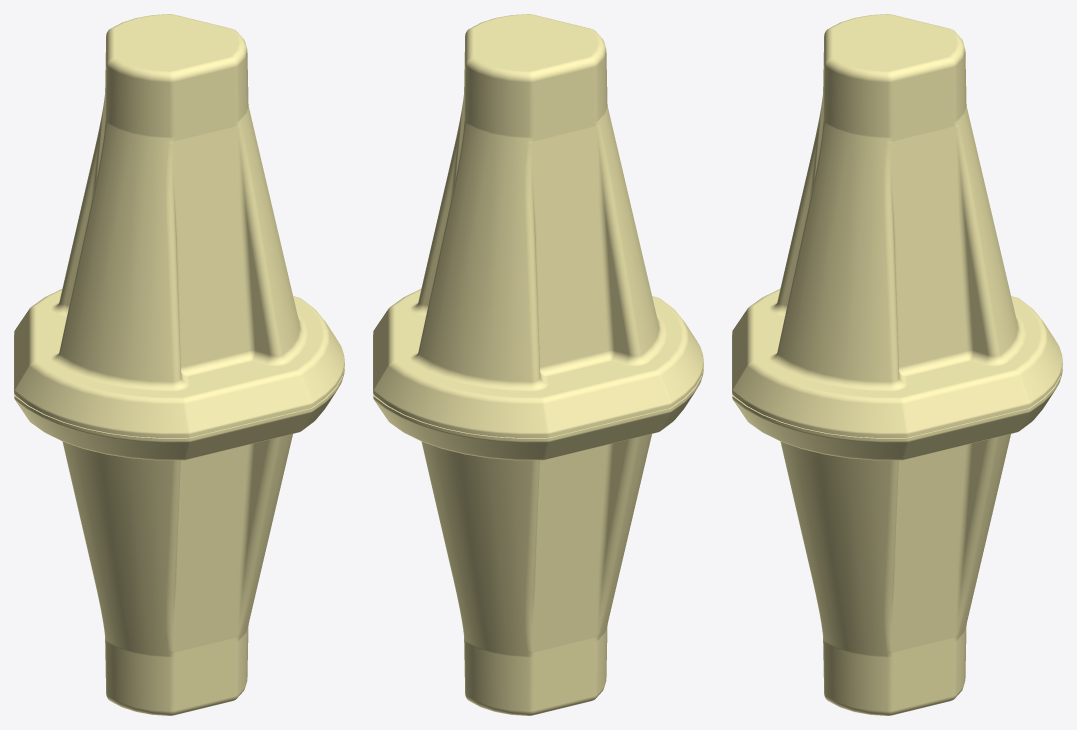
File: V5RC-Override-H2H-_-YellowYellowPin.glb
3 views of the same model, side by side, from view 1: azimuth 30°, elevation 25°; view 2: azimuth 150°, elevation 25°; view 3: azimuth 270°, elevation 25° (orthographic).
Visible parts, largest first — view 1: V5RC-Override-H2H-_-YellowYellowPin; view 2: V5RC-Override-H2H-_-YellowYellowPin; view 3: V5RC-Override-H2H-_-YellowYellowPin.
Part boxes in pixels (x1,y1,x2,y2): V5RC-Override-H2H-_-YellowYellowPin: (14, 14, 344, 715); V5RC-Override-H2H-_-YellowYellowPin: (373, 14, 703, 715); V5RC-Override-H2H-_-YellowYellowPin: (732, 14, 1062, 715).
Size of the model in its own units: 0.0801 by 0.165 by 0.0768.
